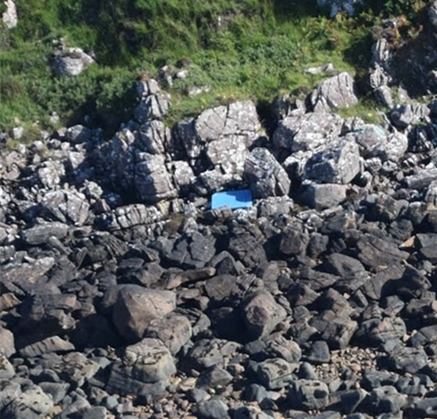cuboid: (201, 177, 269, 219)
